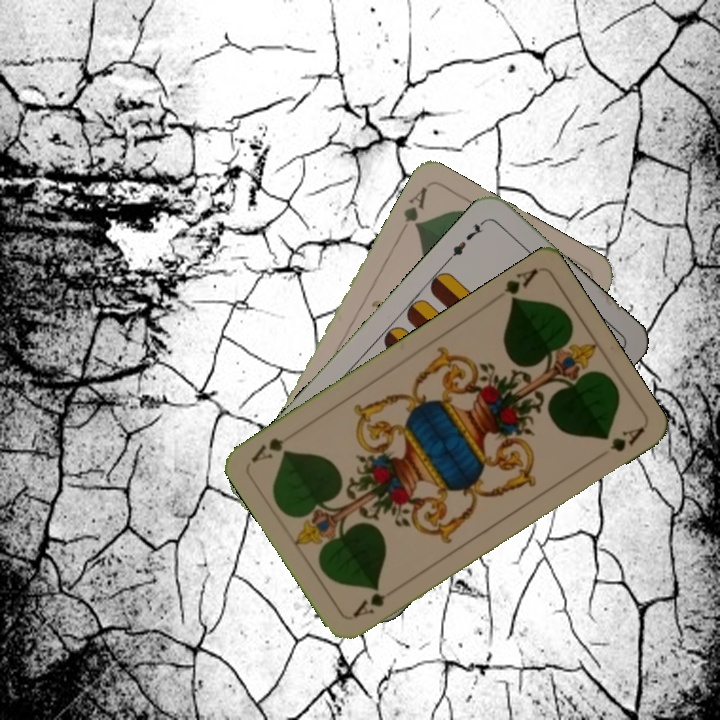E7: (444, 216, 489, 264)
GA: (348, 582, 401, 620), (499, 264, 541, 308), (399, 182, 430, 232)
